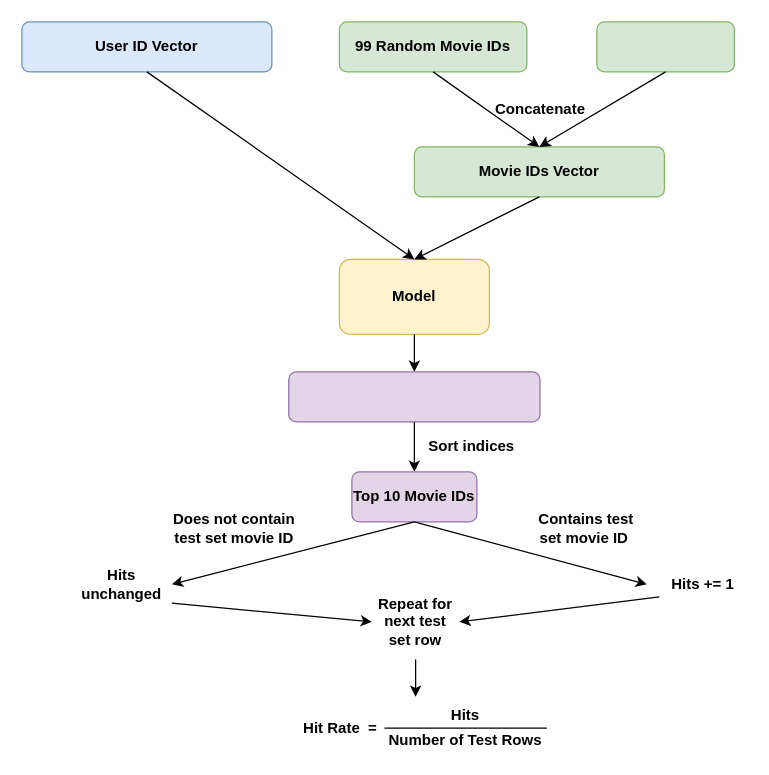
Image size: 769x775. Some labels were removed from this diagram. The centre of each missing label's shape, as x and y in pixels:
Confidence Vector: pixel 414 396
Test Set Movie ID: pixel 665 46
